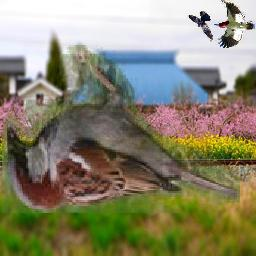Crow: (187, 12, 214, 43)
Sparrow: (2, 45, 240, 213)
Woodpecker: (215, 0, 256, 48)
